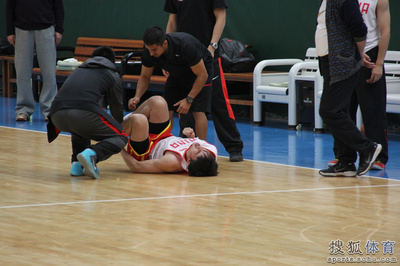fall: (118, 93, 222, 179)
